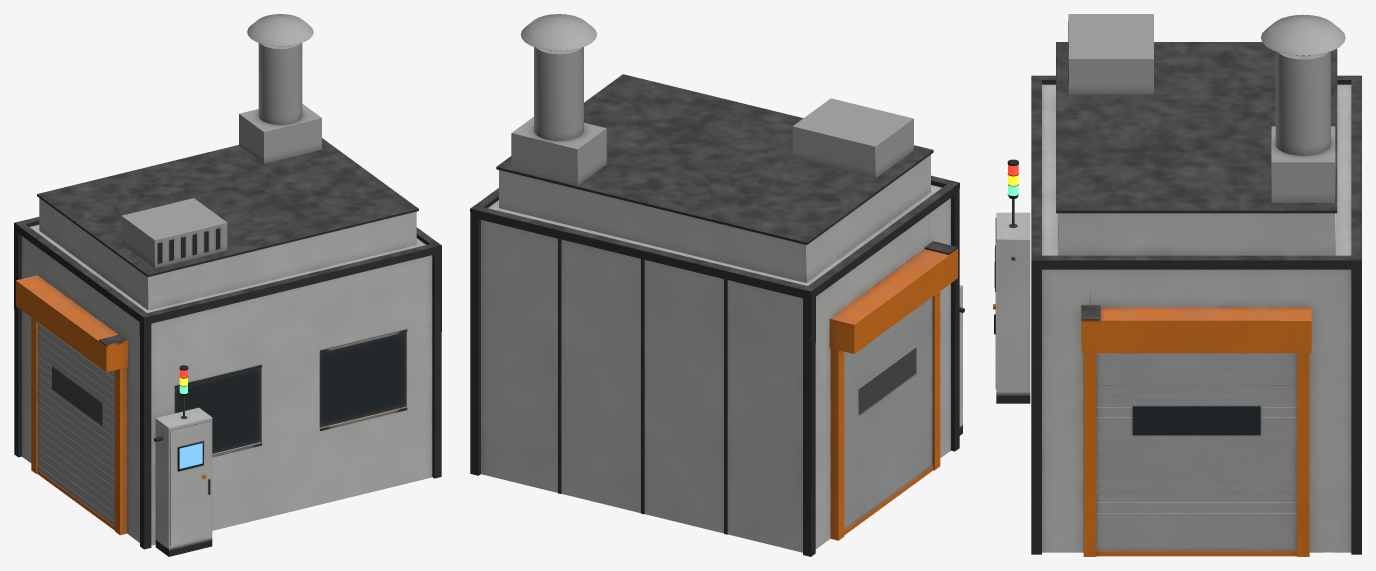
File: PaintBooth.fbx
3 renders of one model, left to right at view 1: azimuth 30°, elevation 25°; view 2: azimuth 150°, elevation 25°; view 3: azimuth 270°, elevation 25°, orthographic. The views are drawn at different scales.
Visible parts, largest first — view 1: Body_LOD0, Door_In_LOD0; view 2: Body_LOD0, Door_In_LOD0; view 3: Body_LOD0, Door_Out_LOD0.
Part boxes in pixels (<box>): Body_LOD0: <box>14,14,441,556</box>; Door_In_LOD0: <box>37,322,114,530</box>; Body_LOD0: <box>470,14,964,556</box>; Door_In_LOD0: <box>844,297,933,535</box>; Body_LOD0: <box>993,14,1361,556</box>; Door_Out_LOD0: <box>1096,353,1296,556</box>.
Size of what is drawn, in the model's own units: 4.6 by 5.18 by 3.46.
Materials: 1 (1 with a texture image).
